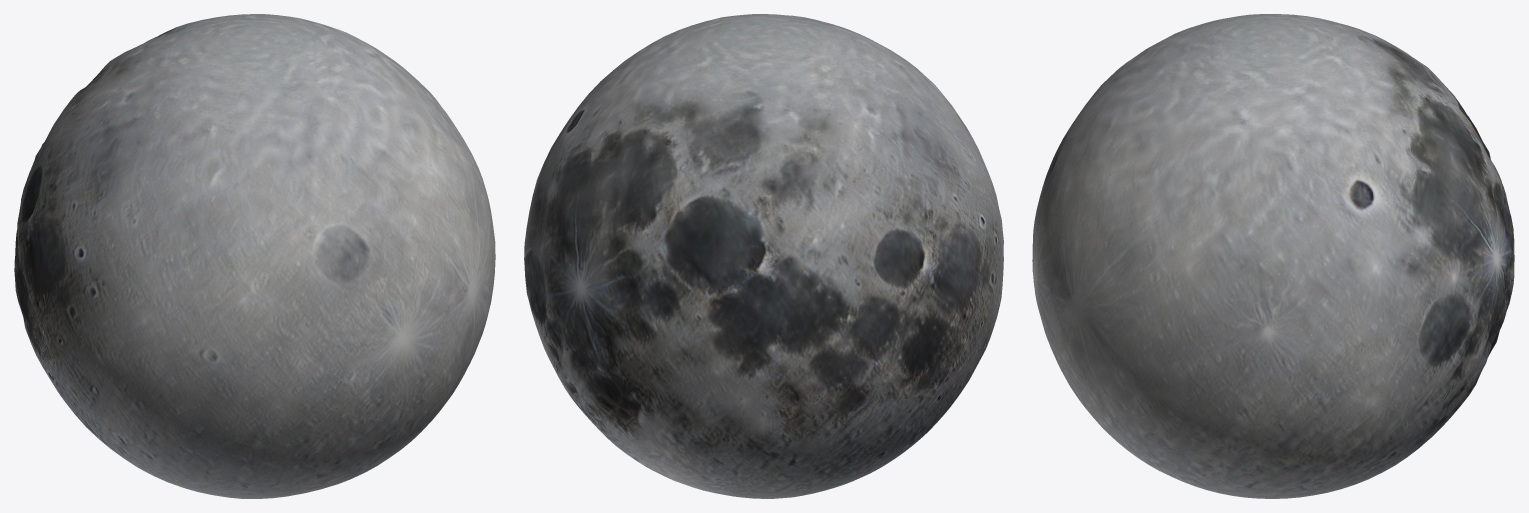
Rendered from moon.fbx.
3 renders of one model, left to right at view 1: azimuth 30°, elevation 25°; view 2: azimuth 150°, elevation 25°; view 3: azimuth 270°, elevation 25°, orthographic.
Visible parts, largest first — view 1: mesh; view 2: mesh; view 3: mesh.
Boxes of the visible parts, x1,y1,x2,y2 form: mesh: (14, 14, 495, 498); mesh: (524, 14, 1003, 498); mesh: (1032, 14, 1514, 498).
Size of the model in its own units: 99.19 by 99.96 by 99.06.
